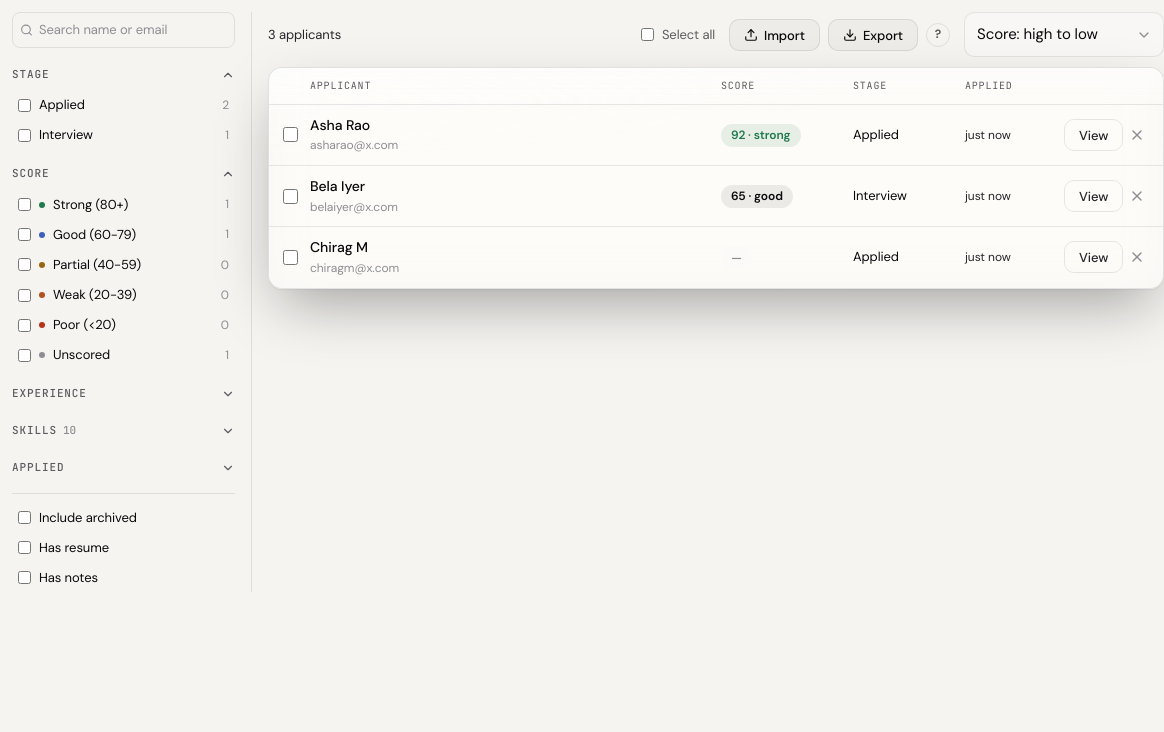
Scenario: RankedTab sidebar redesign › checking a stage filters the table; summary shows the active count
This screenshot has width=1164, height=732.
Expected: the text "Asha Rao" is shown, [310, 115, 370, 136]
Click the 1st text "Interview": (66, 135) [39, 126, 93, 143]
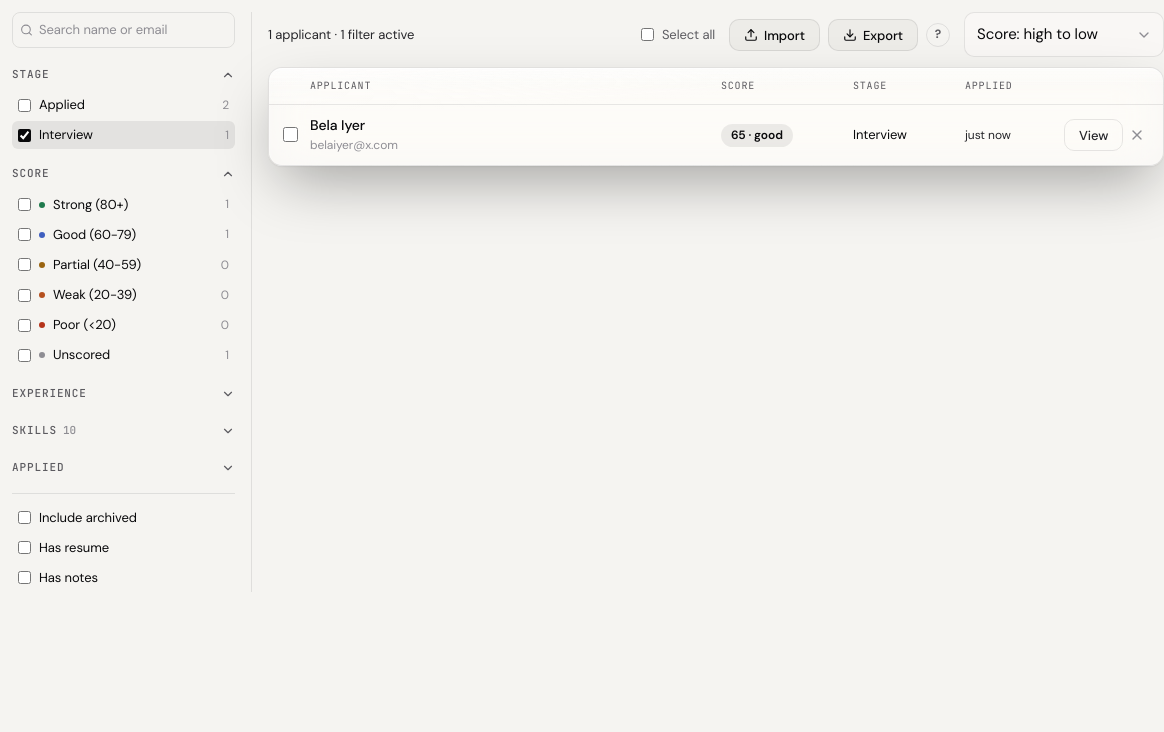
Expected: the text "Bela Iyer" is shown, [310, 115, 365, 136]
Result: the text "1 applicant · 1 filter active" is shown at [268, 26, 414, 42]
Result: the text "Asha Rao" is gone
